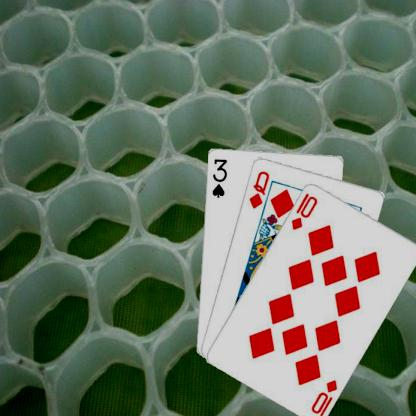10D: (288, 190, 319, 231), (308, 376, 339, 416)
3S: (209, 156, 228, 198)
QD: (246, 168, 270, 210)
